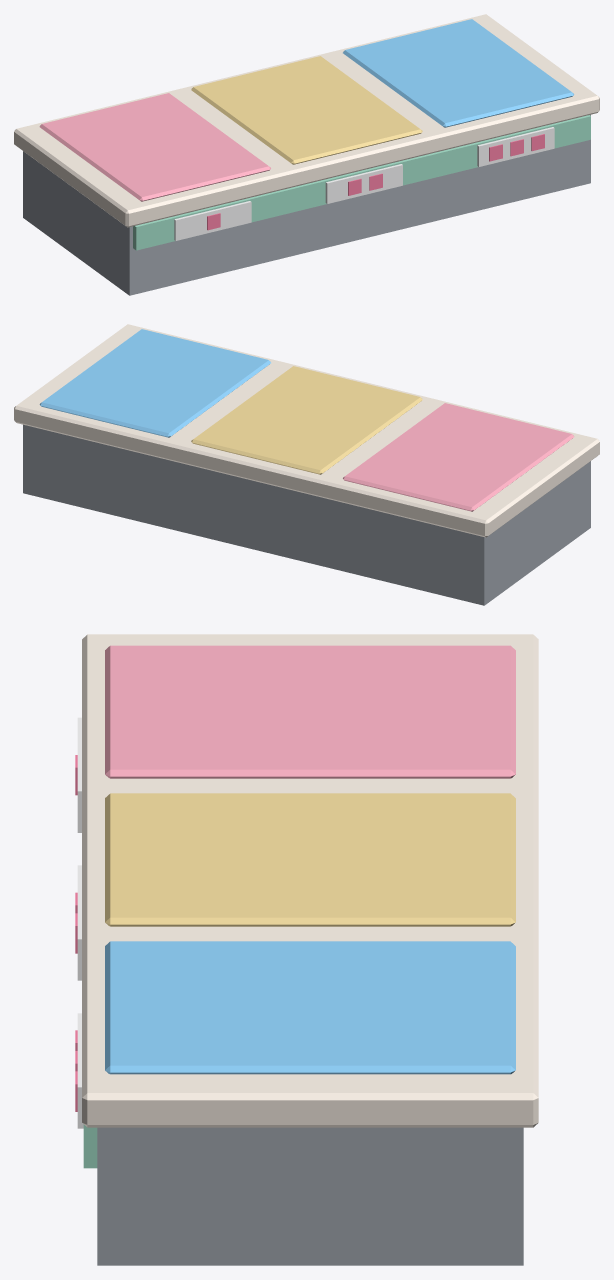
File: CleanACat_Station_WaitBench.fbx
The picture shows the model from 3 angles, top to bottom: view 1: azimuth 30°, elevation 25°; view 2: azimuth 150°, elevation 25°; view 3: azimuth 270°, elevation 25°; orthographic projection. The views are drawn at different scales.
Visible parts, largest first — view 1: CleanACat_Station_WaitBench, CleanACat_Station_WaitBench_Barrier; view 2: CleanACat_Station_WaitBench, CleanACat_Station_WaitBench_Barrier; view 3: CleanACat_Station_WaitBench, CleanACat_Station_WaitBench_Barrier.
Part boxes in pixels (box(x1,y1,x2,y2)): CleanACat_Station_WaitBench: box(14, 14, 599, 250); CleanACat_Station_WaitBench_Barrier: box(23, 114, 590, 295); CleanACat_Station_WaitBench: box(14, 324, 599, 537); CleanACat_Station_WaitBench_Barrier: box(23, 424, 590, 605); CleanACat_Station_WaitBench: box(75, 634, 538, 1168); CleanACat_Station_WaitBench_Barrier: box(97, 1127, 523, 1265).
Size of the model in its own units: 7.2 by 1.36 by 3.04.
1 material, 1 textured.
